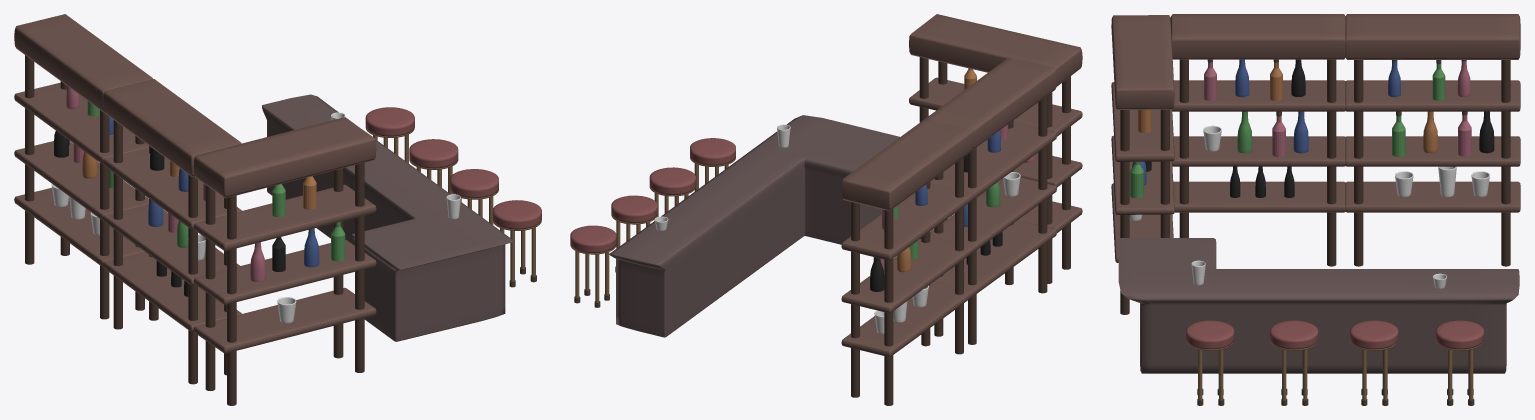
File: hotel lobby bar.fbx
3 views of the same model, side by side, from view 1: azimuth 30°, elevation 25°; view 2: azimuth 150°, elevation 25°; view 3: azimuth 270°, elevation 25° (orthographic). The views are drawn at different scales.
Visible parts, largest first — view 1: group1_pCube5, pCube1, stool5_pCylinder1, stool3_pCylinder1, stool4_pCylinder1, stool6_pCylinder1, pCylinder15 (×2), pCylinder17; view 2: group1_pCube5, pCube1, stool3_pCylinder1, stool4_pCylinder1, stool6_pCylinder1, stool5_pCylinder1; view 3: group1_pCube5, pCube1, pCylinder15 (×8), pCylinder17 (×7), stool3_pCylinder1, stool6_pCylinder1, stool5_pCylinder1, stool4_pCylinder1, pCylinder20, pCylinder26, pCylinder19, pCylinder23.
Part boxes in pixels (left/top/right/bottom): group1_pCube5: left=14, top=14, right=376, bottom=405; pCube1: left=262, top=94, right=514, bottom=341; stool5_pCylinder1: left=492, top=200, right=541, bottom=287; stool3_pCylinder1: left=365, top=107, right=414, bottom=163; stool4_pCylinder1: left=409, top=139, right=458, bottom=194; stool6_pCylinder1: left=450, top=169, right=498, bottom=224; pCylinder15 (×2): left=250, top=228, right=319, bottom=281; pCylinder17: left=331, top=221, right=345, bottom=261; group1_pCube5: left=841, top=14, right=1082, bottom=405; pCube1: left=609, top=115, right=899, bottom=337; stool3_pCylinder1: left=570, top=225, right=616, bottom=307; stool4_pCylinder1: left=611, top=195, right=657, bottom=272; stool6_pCylinder1: left=649, top=167, right=695, bottom=220; stool5_pCylinder1: left=690, top=138, right=735, bottom=191; group1_pCube5: left=1111, top=14, right=1520, bottom=314; pCube1: left=1118, top=238, right=1519, bottom=373; pCylinder15 (×8): left=1235, top=59, right=1494, bottom=153; pCylinder17 (×7): left=1130, top=62, right=1471, bottom=198; stool3_pCylinder1: left=1435, top=320, right=1484, bottom=405; stool6_pCylinder1: left=1270, top=320, right=1318, bottom=405; stool5_pCylinder1: left=1186, top=320, right=1234, bottom=405; stool4_pCylinder1: left=1350, top=320, right=1398, bottom=405; pCylinder20: left=1438, top=166, right=1456, bottom=196; pCylinder26: left=1203, top=125, right=1221, bottom=151; pCylinder19: left=1471, top=171, right=1489, bottom=196; pCylinder23: left=1395, top=171, right=1413, bottom=196.
Size of the model in its own units: 48.78 by 29.68 by 47.84.
